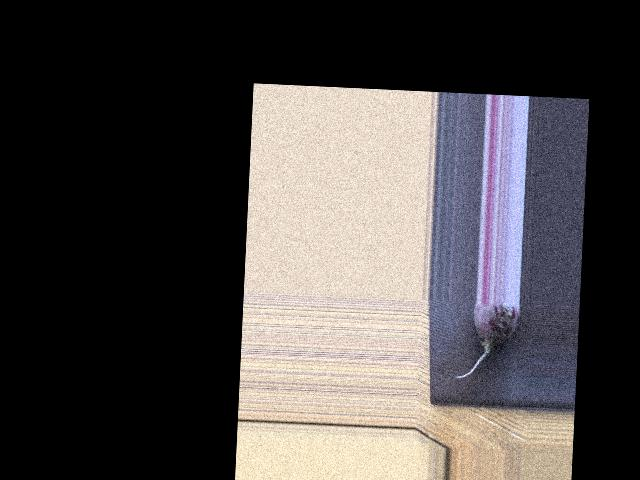beet: (455, 301, 520, 381)
